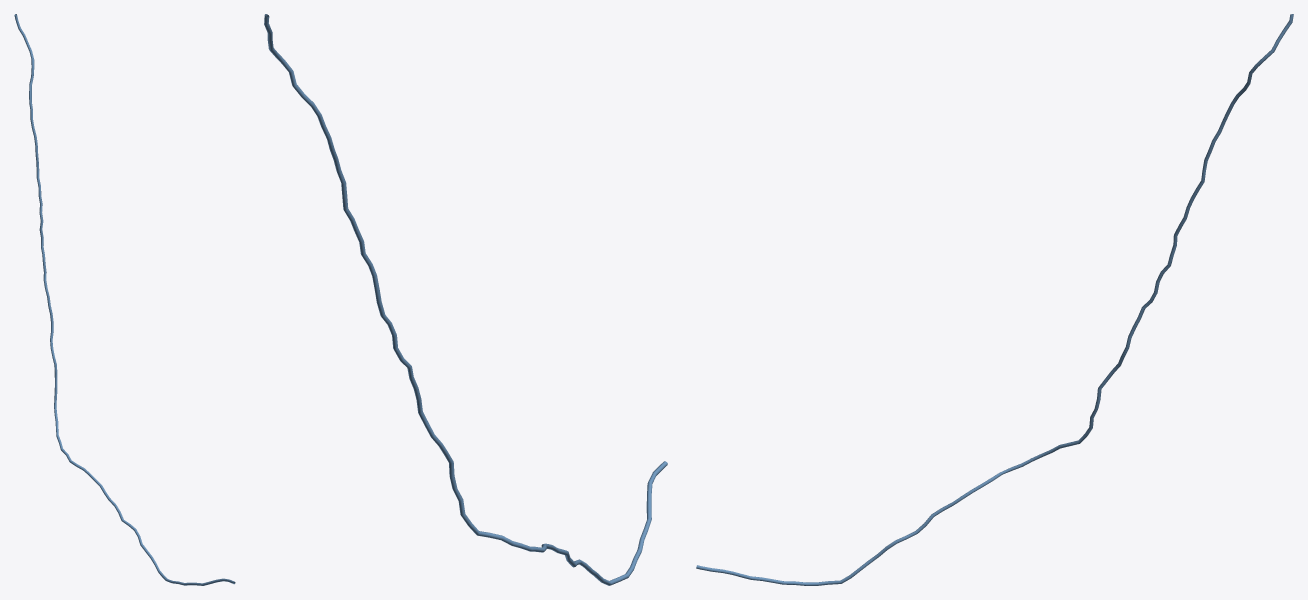
File: sweep214.fbx
3 views of the same model, side by side, from view 1: azimuth 30°, elevation 25°; view 2: azimuth 150°, elevation 25°; view 3: azimuth 270°, elevation 25° (orthographic). The views are drawn at different scales.
Parts seen in each view (by area): view 1: sweep214; view 2: sweep214; view 3: sweep214.
Boxes of the visible parts, x1,y1,x2,y2 form: sweep214: (14, 14, 235, 585); sweep214: (264, 14, 667, 585); sweep214: (696, 14, 1293, 585).
Bounding box in the file's own units: 0.4739 × 3.46 × 3.18.
